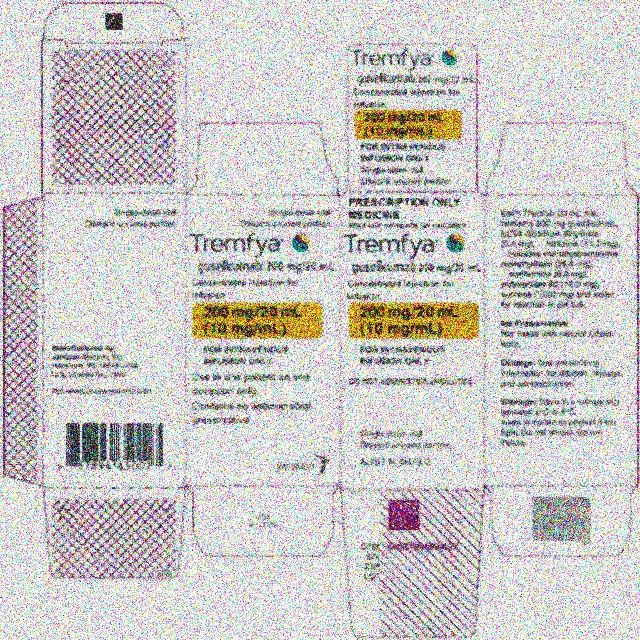Artwork: (0, 0, 640, 640)
Back_Panel: (43, 192, 186, 488)
Bottom_Part: (340, 489, 484, 639)
Extra_Areas: (41, 39, 185, 193), (44, 488, 186, 580), (3, 195, 44, 488), (484, 120, 636, 195), (186, 122, 339, 194), (485, 486, 637, 558), (187, 487, 337, 558), (44, 1, 185, 39)
Front_Panel: (341, 192, 484, 489)
Side_Panel: (186, 194, 341, 486), (483, 195, 637, 486)
Top_Panel: (346, 42, 479, 192)
